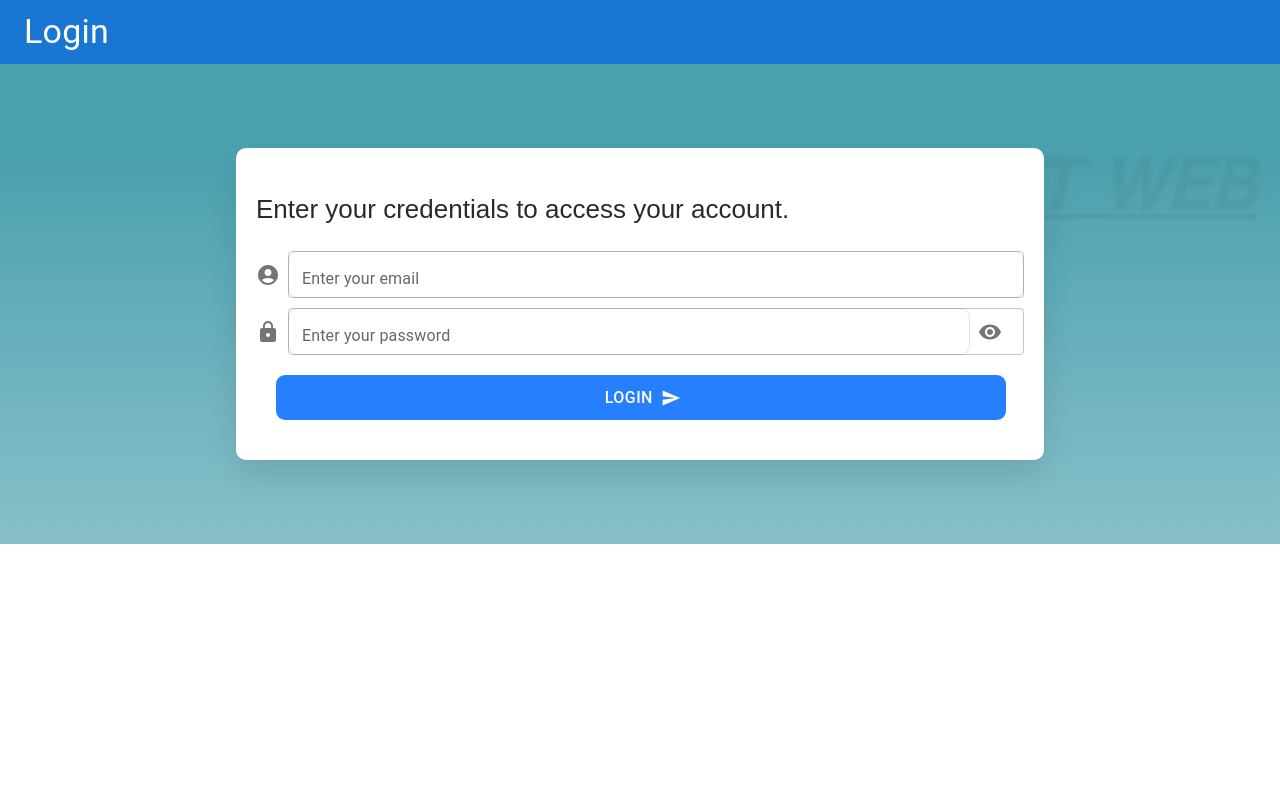
it: Test - input error case › input error username
Type "demouser" into the field labelled "Enter your email" at coordinates (656, 274), box [288,251,1024,298]
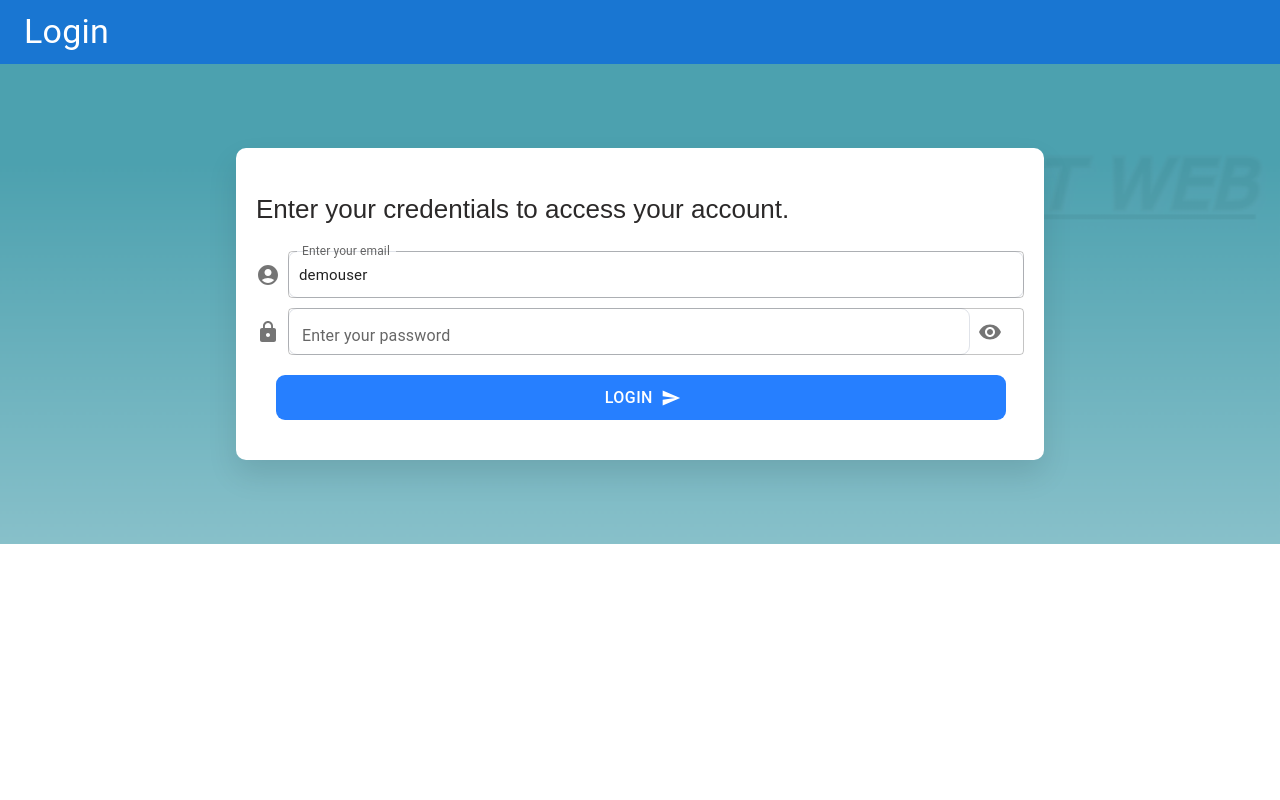
Type "test" into the password field labelled "Enter your password" at coordinates (629, 332), box [288,308,970,355]
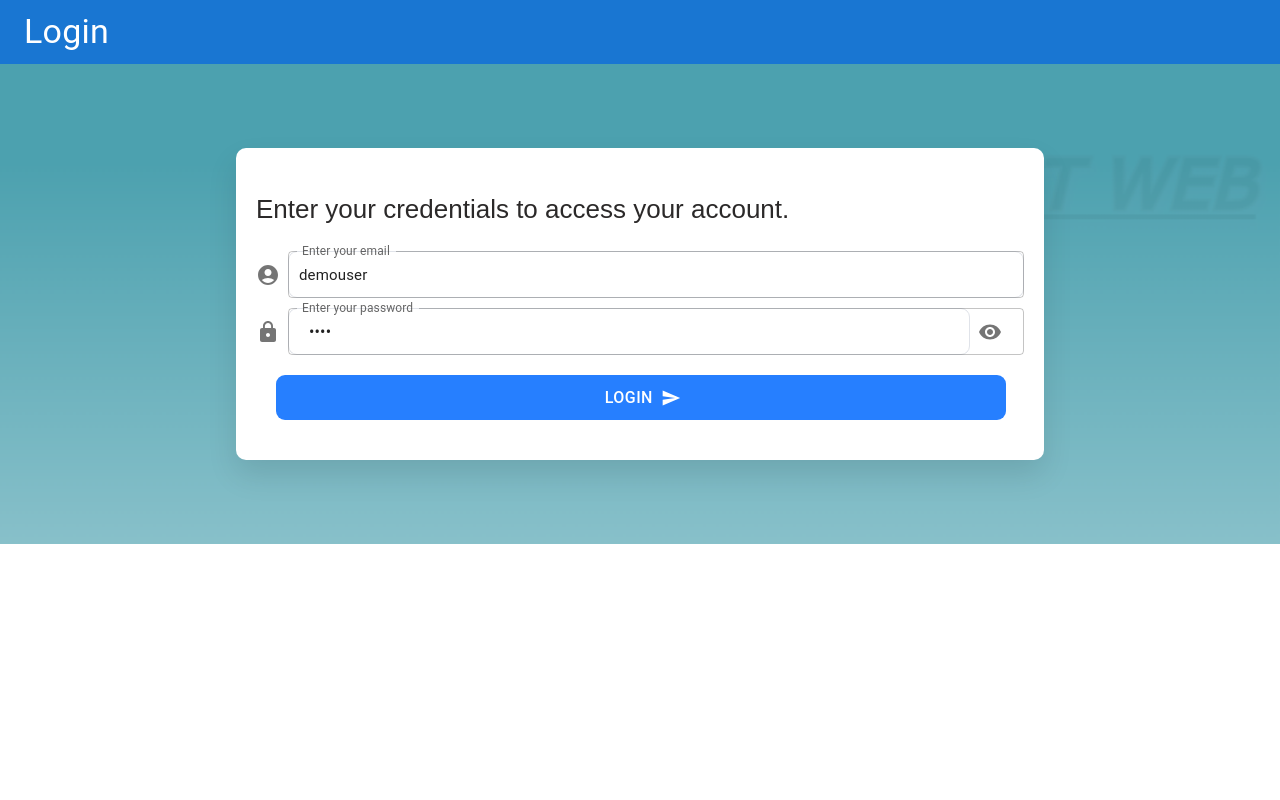
Click the button "Login" at coordinates (641, 398), box [276,375,1006,420]
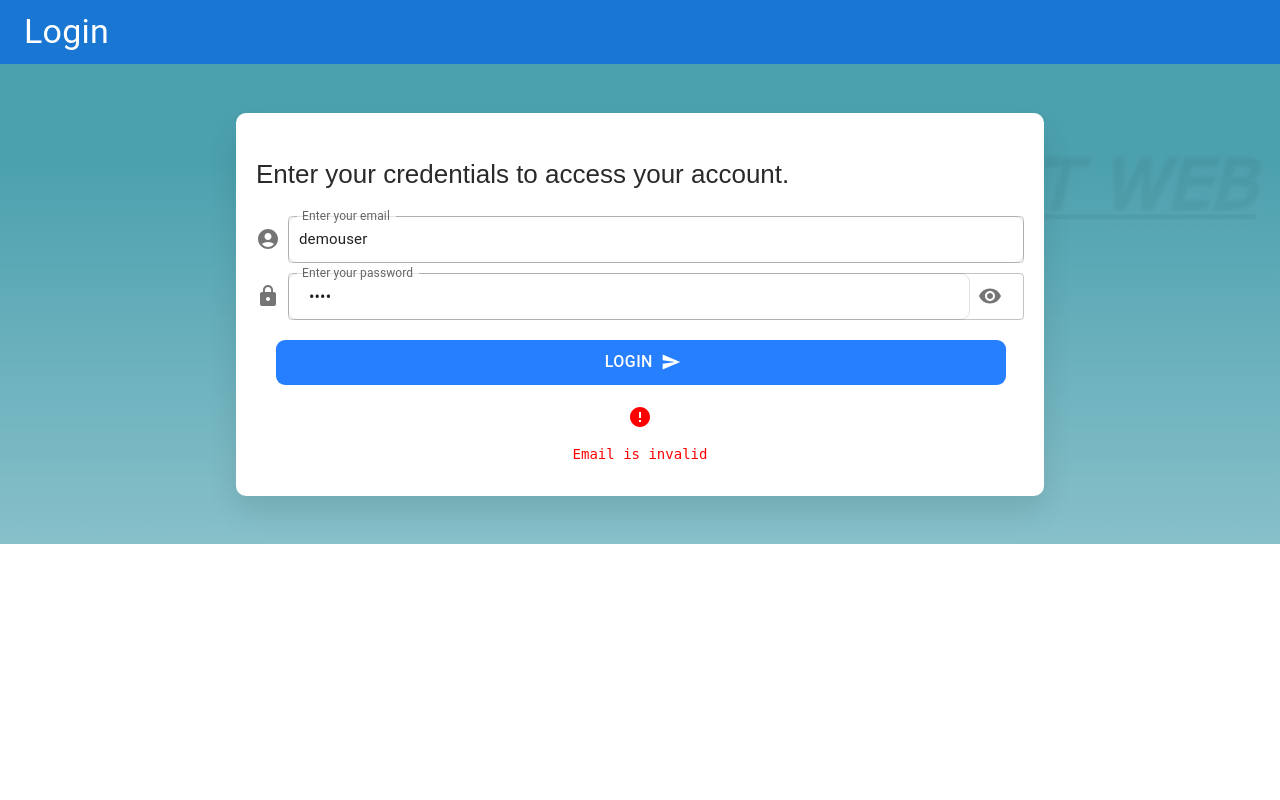
Result: the message reads "Email is invalid" at [573,446,708,462]
